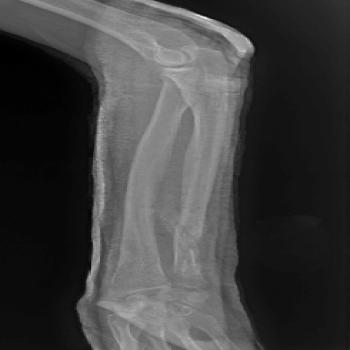Fracture: (168, 220, 220, 258)
